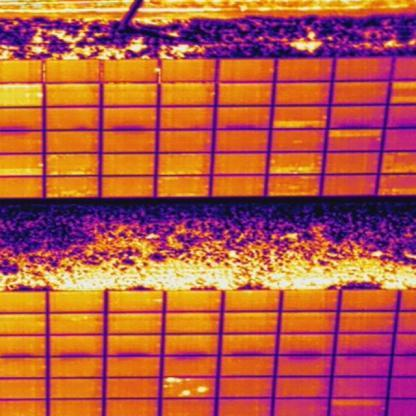anomaly: (161, 372, 214, 400), (273, 118, 328, 132), (269, 163, 323, 174)
